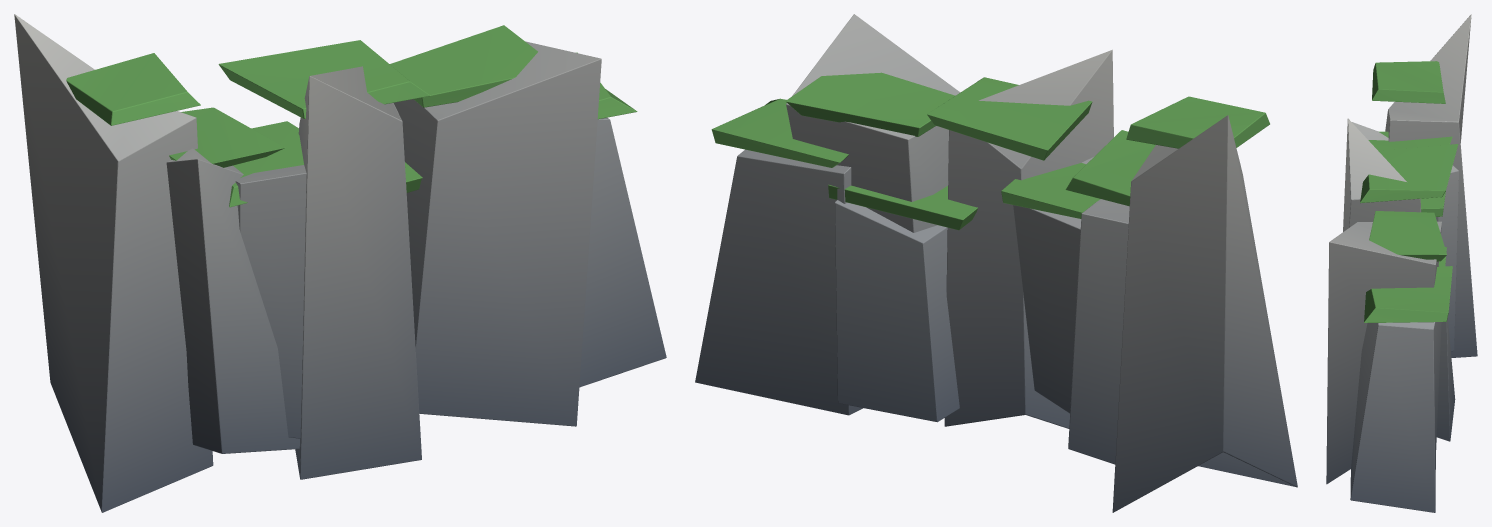
The model's file is cliff.glb.
The picture shows the model from 3 angles, left to right: view 1: azimuth 30°, elevation 25°; view 2: azimuth 150°, elevation 25°; view 3: azimuth 270°, elevation 25°; orthographic projection. The views are drawn at different scales.
Parts seen in each view (by area): view 1: Cliff; view 2: Cliff; view 3: Cliff.
Boxes of the visible parts, <box> form: Cliff: <box>14,14,666,512</box>; Cliff: <box>695,14,1297,512</box>; Cliff: <box>1326,14,1477,512</box>.
Bounding box in the file's own units: 21.65 × 16.27 × 7.06.
